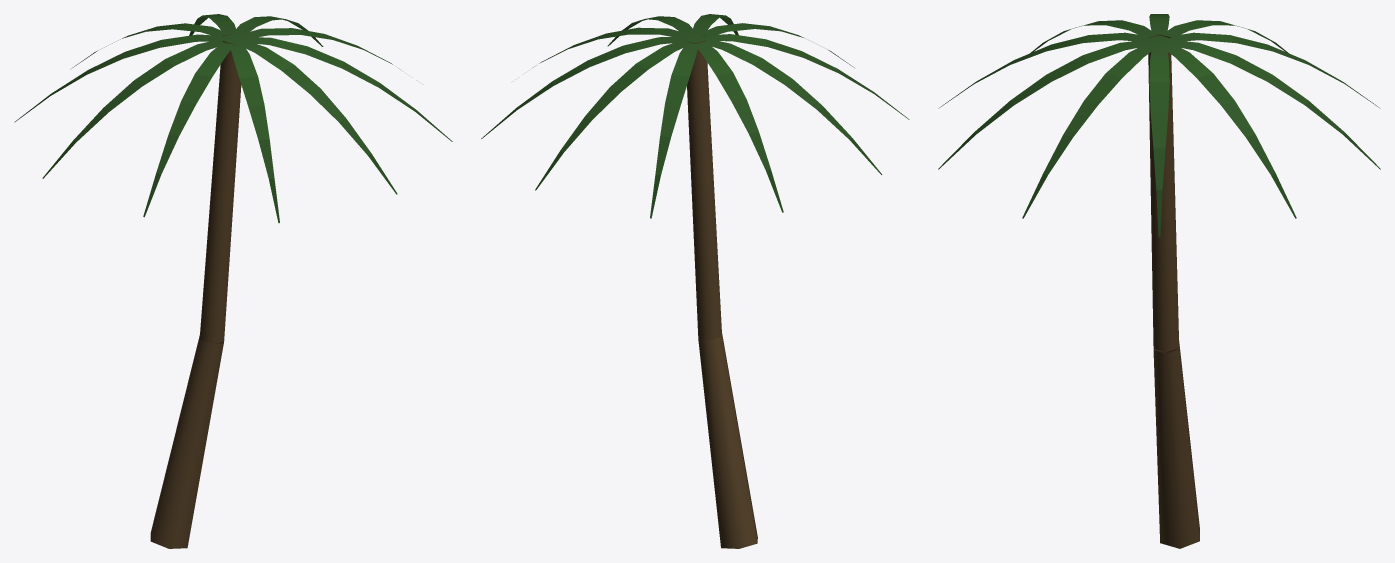
The model's file is ambient_tree_24.glb.
3 renders of one model, left to right at view 1: azimuth 30°, elevation 25°; view 2: azimuth 150°, elevation 25°; view 3: azimuth 270°, elevation 25°, orthographic. The views are drawn at different scales.
Parts seen in each view (by area): view 1: ambient_tree_24; view 2: ambient_tree_24; view 3: ambient_tree_24.
Part boxes in pixels (x1=…): ambient_tree_24: x1=14, y1=14, x2=452, y2=548; ambient_tree_24: x1=481, y1=14, x2=909, y2=548; ambient_tree_24: x1=938, y1=14, x2=1380, y2=548.
Bounding box in the file's own units: 6.8 × 8.51 × 6.48.
Materials: 2 (2 with a texture image).
